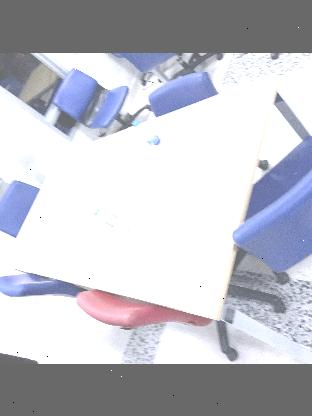Plastic Bottle: (131, 118, 179, 158), (91, 206, 136, 236)
